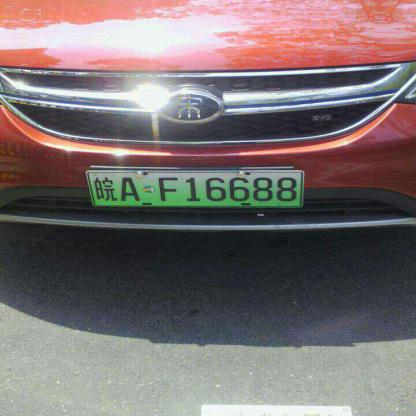lp: (88, 172, 302, 205)
